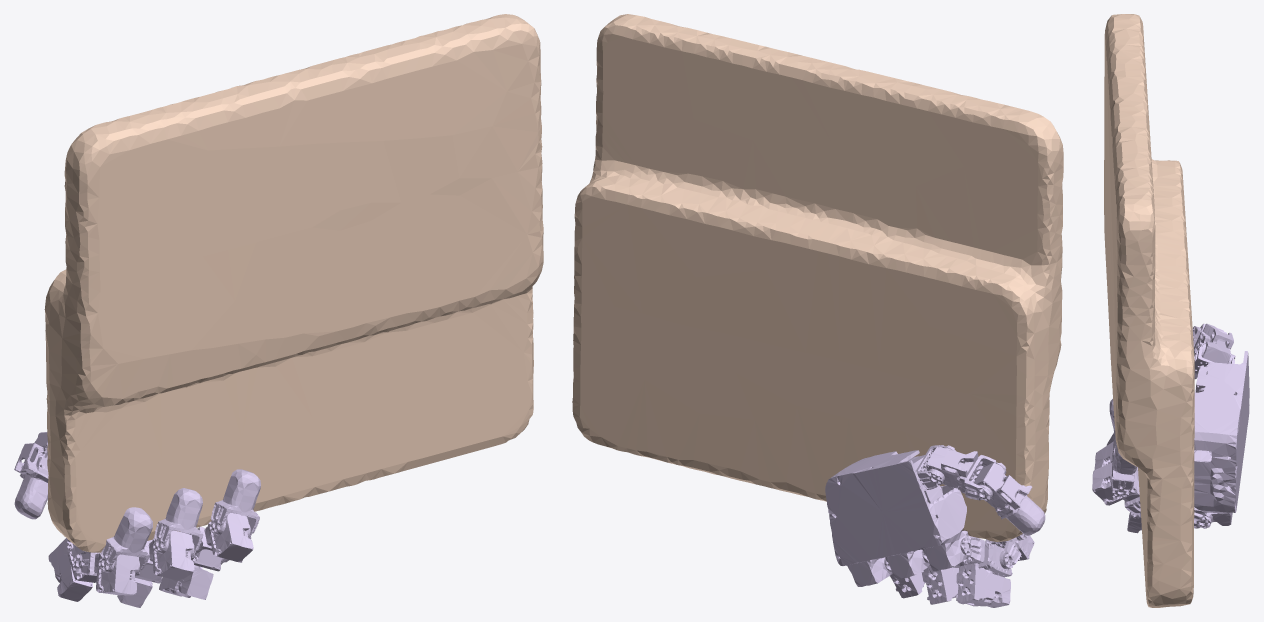
Rendered from b8f9673c8359c7-closed.glb.
3 renders of one model, left to right at view 1: azimuth 30°, elevation 25°; view 2: azimuth 150°, elevation 25°; view 3: azimuth 270°, elevation 25°, orthographic. The views are drawn at different scales.
Parts seen in each view (by area): view 1: world, LEAP_hand; view 2: world, LEAP_hand; view 3: world, LEAP_hand.
Boxes of the visible parts, x1,y1,x2,y2 form: world: (44, 14, 543, 552); LEAP_hand: (14, 432, 260, 607); world: (572, 14, 1063, 541); LEAP_hand: (825, 445, 1045, 607); world: (1104, 14, 1194, 607); LEAP_hand: (1092, 323, 1249, 533).
Size of the model in its own units: 0.4761 by 0.4734 by 0.1392.
